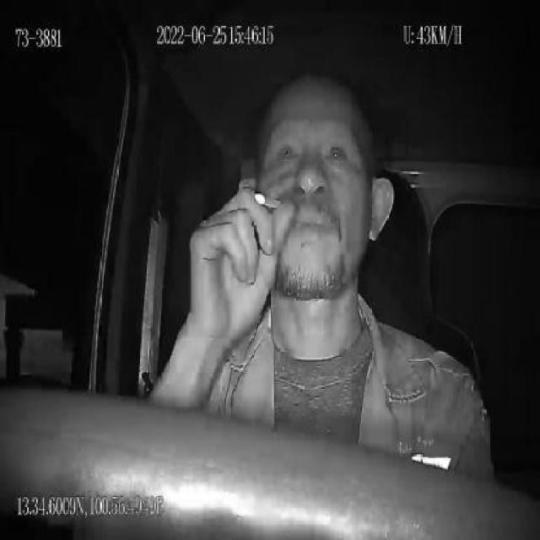smoking: (254, 191, 282, 209)
